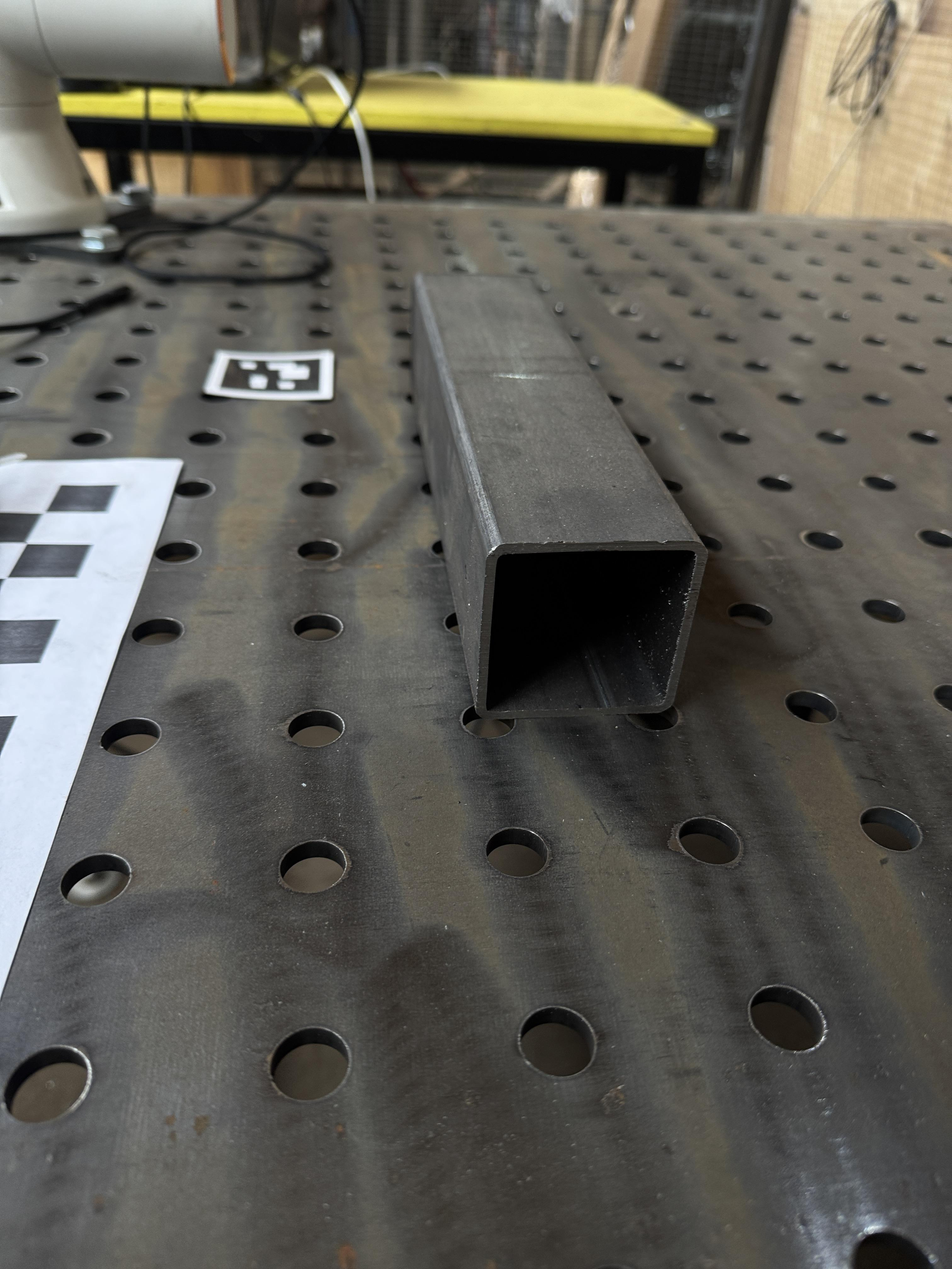detail: (413, 272, 704, 721)
